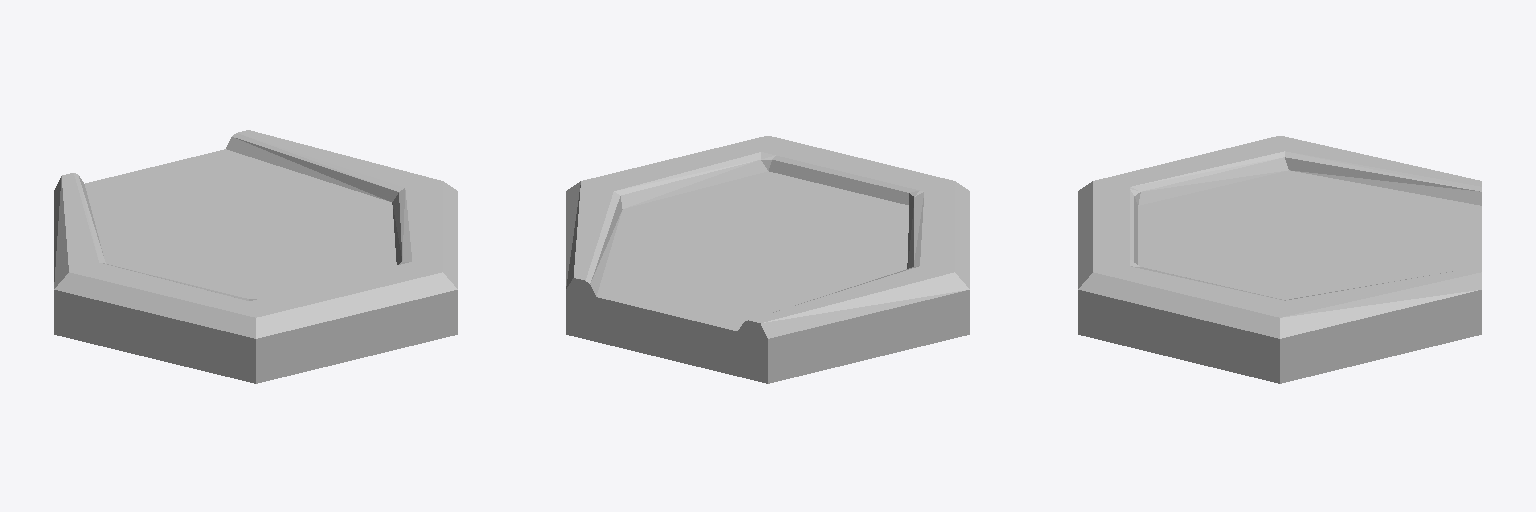
The model's file is ziel.obj.
The picture shows the model from 3 angles: view 1: azimuth 30°, elevation 25°; view 2: azimuth 150°, elevation 25°; view 3: azimuth 270°, elevation 25°; orthographic projection.
Parts seen in each view (by area): view 1: goal tracks uv_done_textures_needed og; view 2: goal tracks uv_done_textures_needed og; view 3: goal tracks uv_done_textures_needed og.
Part boxes in pixels (left/top/right/bottom): goal tracks uv_done_textures_needed og: left=54, top=130, right=457, bottom=383; goal tracks uv_done_textures_needed og: left=566, top=136, right=969, bottom=383; goal tracks uv_done_textures_needed og: left=1078, top=136, right=1481, bottom=383.
Bounding box in the file's own units: 2 × 0.2777 × 1.73.